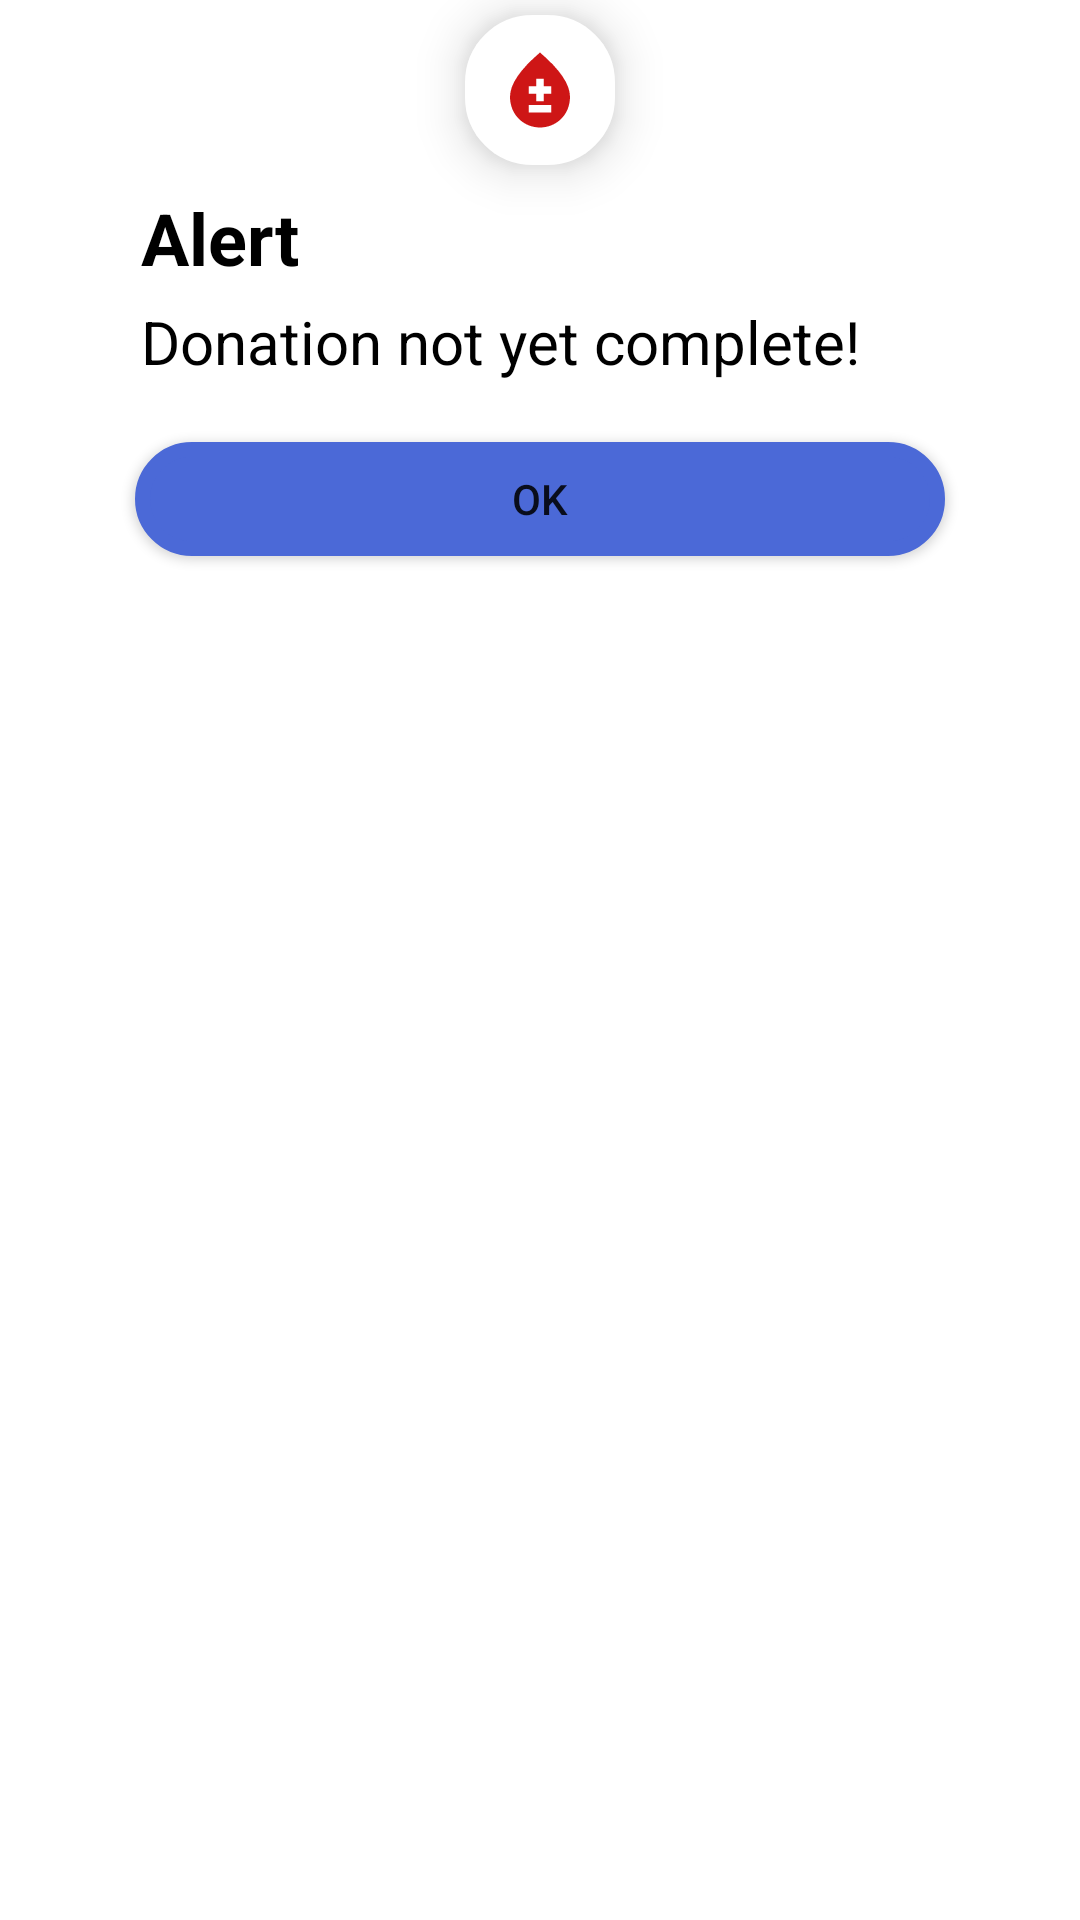

Icons on this 1080 × 1920 Android screen, each with the point to tap as (x,y):
bloodtype: (540,103)
